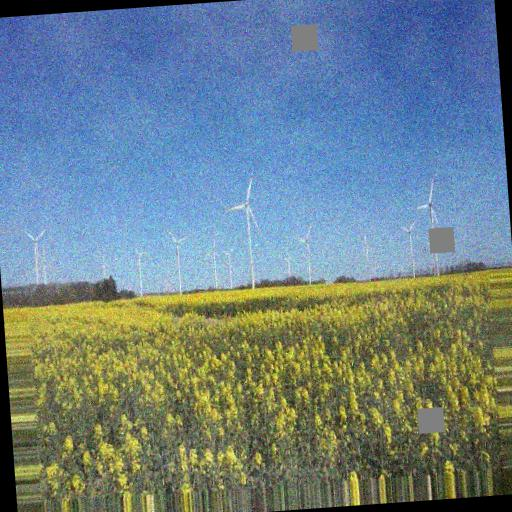wind turbine: (228, 180, 267, 290), (417, 180, 457, 276), (22, 227, 51, 298), (289, 223, 320, 284), (166, 229, 194, 293)
